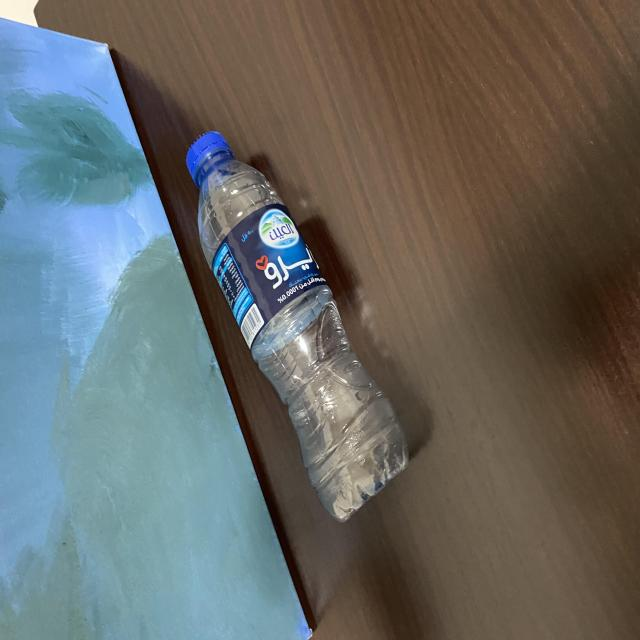plastic: (183, 125, 412, 525)
